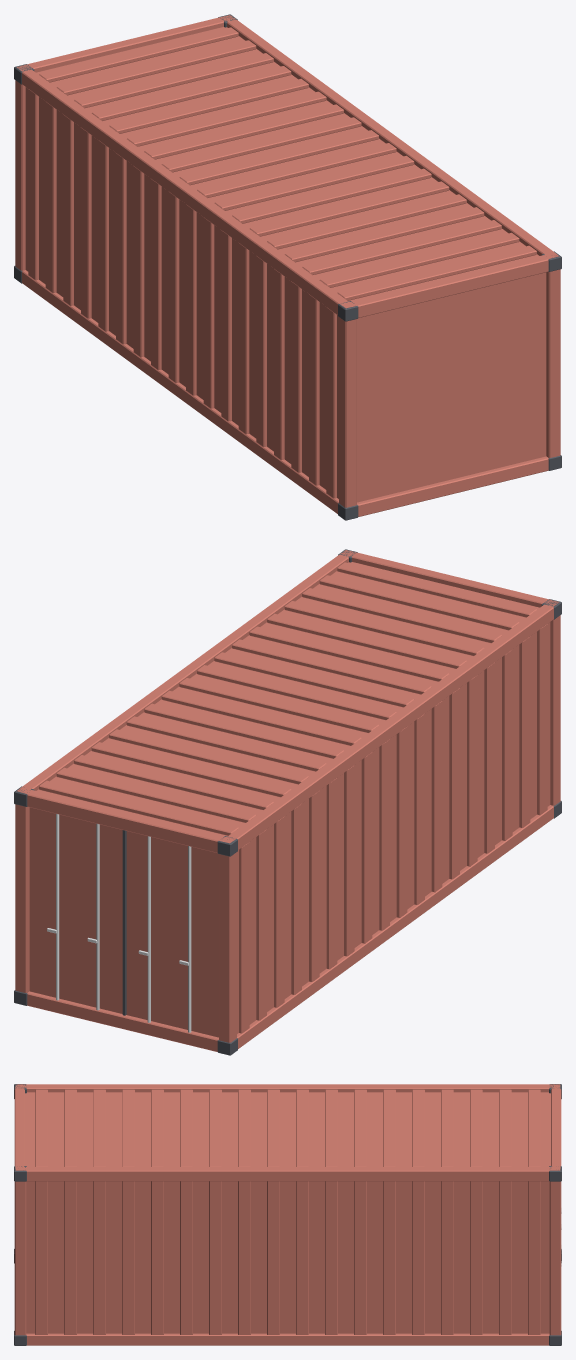
File: Shipping_Container.fbx
3 views of the same model, one above another, from view 1: azimuth 30°, elevation 25°; view 2: azimuth 150°, elevation 25°; view 3: azimuth 270°, elevation 25° (orthographic). The views are drawn at different scales.
Visible parts, largest first — view 1: Shipping_Container; view 2: Shipping_Container; view 3: Shipping_Container.
Part boxes in pixels (box(x1,y1,x2,y2)): Shipping_Container: box(14, 14, 561, 520); Shipping_Container: box(14, 549, 561, 1055); Shipping_Container: box(14, 1084, 561, 1345).
Size of the model in its own units: 3.22 by 3 by 8.52.
